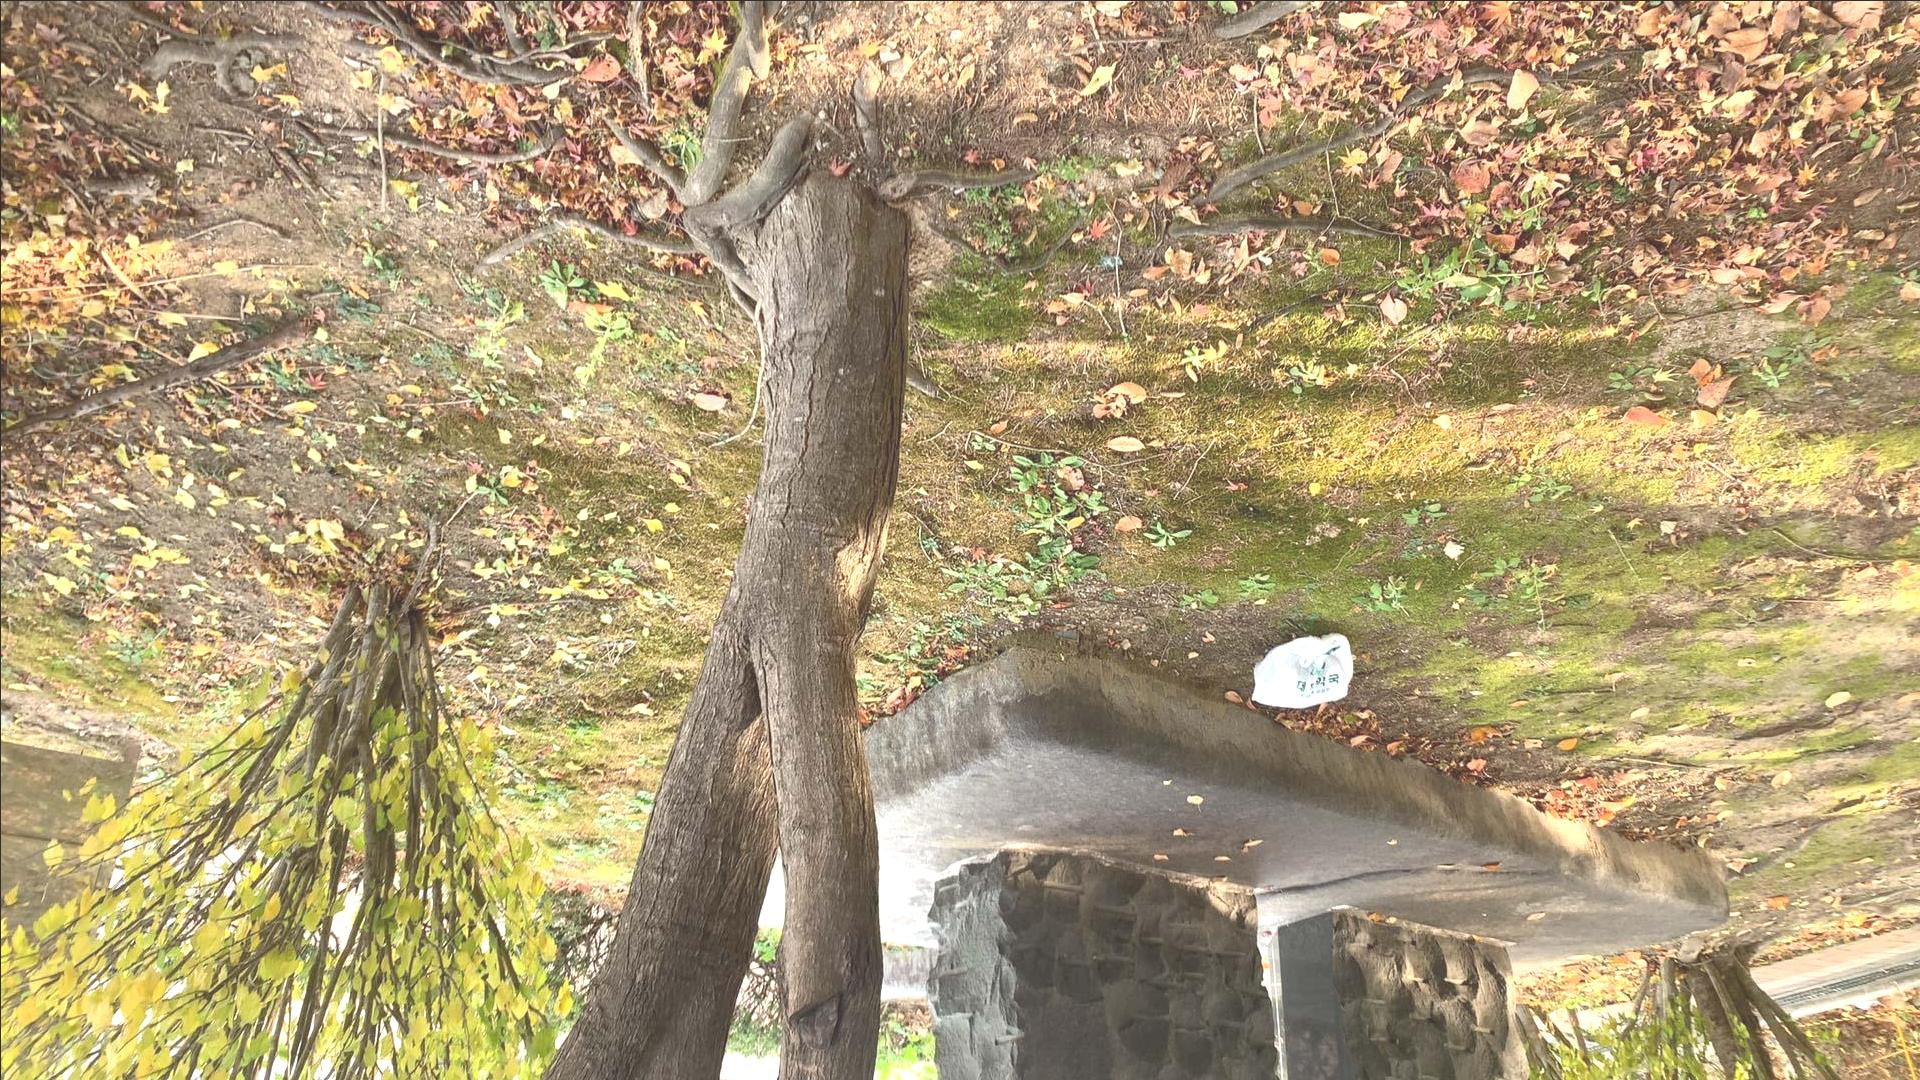white_bag: (1247, 633, 1356, 709)
